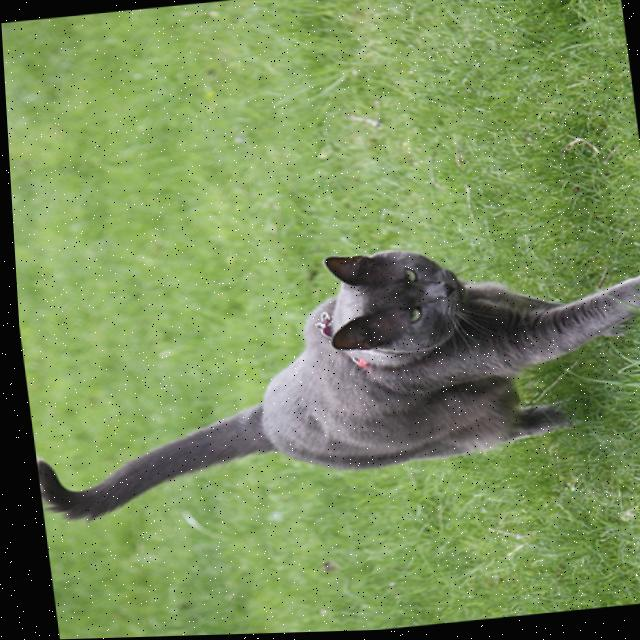Russian Blue: (11, 223, 640, 525)
